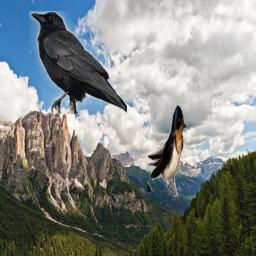Crow: (29, 11, 127, 114)
Swallow: (147, 105, 187, 201)
